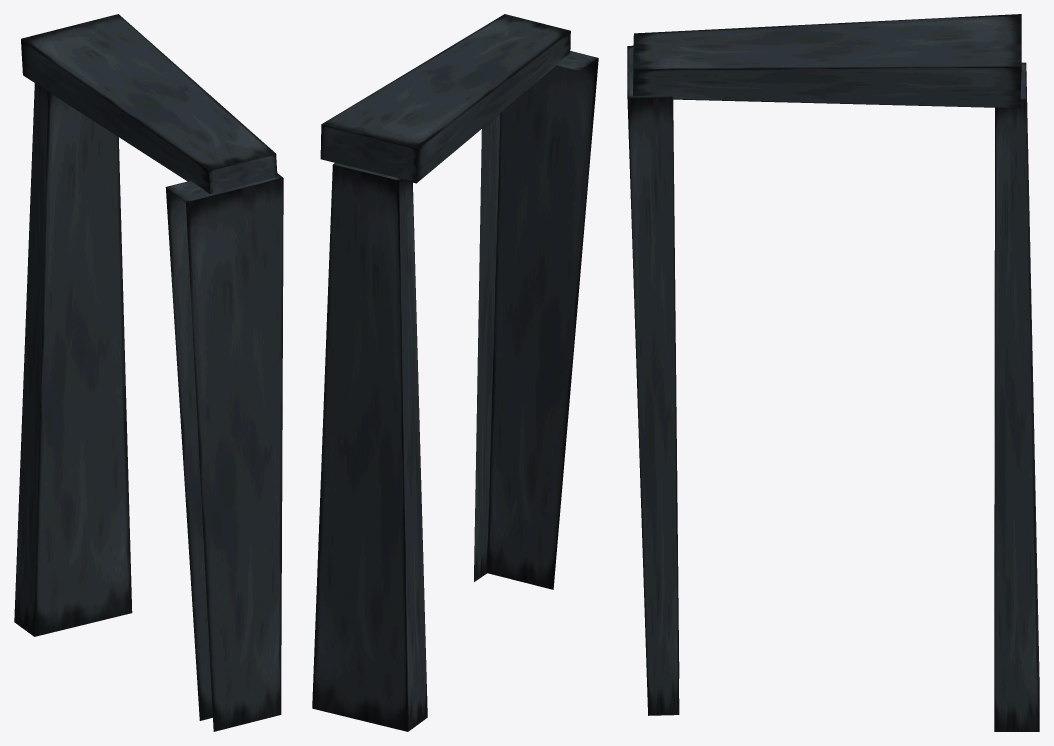
The model's file is TürRahmen [Grau]_64.glb.
The picture shows the model from 3 angles, left to right: view 1: azimuth 30°, elevation 25°; view 2: azimuth 150°, elevation 25°; view 3: azimuth 270°, elevation 25°; orthographic projection. The views are drawn at different scales.
Visible parts, largest first — view 1: pPlaneShape20, pPlaneShape25, pPlaneShape30, pPlaneShape28, pPlaneShape21, pPlaneShape33, pPlaneShape35, pPlaneShape24; view 2: pPlaneShape26, pPlaneShape20, pPlaneShape30, pPlaneShape28, pPlaneShape22, pPlaneShape33, pPlaneShape34, pPlaneShape24; view 3: pPlaneShape27, pPlaneShape22, pPlaneShape30, pPlaneShape32, pPlaneShape26, pPlaneShape23.
Boxes of the visible parts, box(x1,y1,x2,y2) form: pPlaneShape20: box(186, 178, 283, 731); pPlaneShape25: box(34, 92, 132, 636); pPlaneShape30: box(21, 14, 275, 170); pPlaneShape28: box(14, 83, 48, 636); pPlaneShape21: box(165, 187, 212, 720); pPlaneShape33: box(21, 39, 209, 193); pPlaneShape35: box(208, 153, 277, 193); pPlaneShape24: box(166, 173, 282, 202); pPlaneShape26: box(312, 164, 407, 731); pPlaneShape20: box(487, 58, 598, 589); pPlaneShape30: box(322, 14, 570, 148); pPlaneShape28: box(399, 179, 427, 731); pPlaneShape22: box(474, 113, 500, 581); pPlaneShape33: box(416, 31, 570, 183); pPlaneShape34: box(320, 124, 417, 183); pPlaneShape24: box(555, 51, 598, 71); pPlaneShape27: box(994, 100, 1039, 731); pPlaneShape22: box(627, 97, 679, 715); pPlaneShape30: box(634, 14, 1021, 69); pPlaneShape32: box(633, 66, 1021, 108); pPlaneShape26: box(1026, 71, 1039, 730); pPlaneShape23: box(672, 100, 679, 678).
Size of the model in its own units: 0.0582 by 0.3004 by 0.1688.
15 materials, 15 textured.
